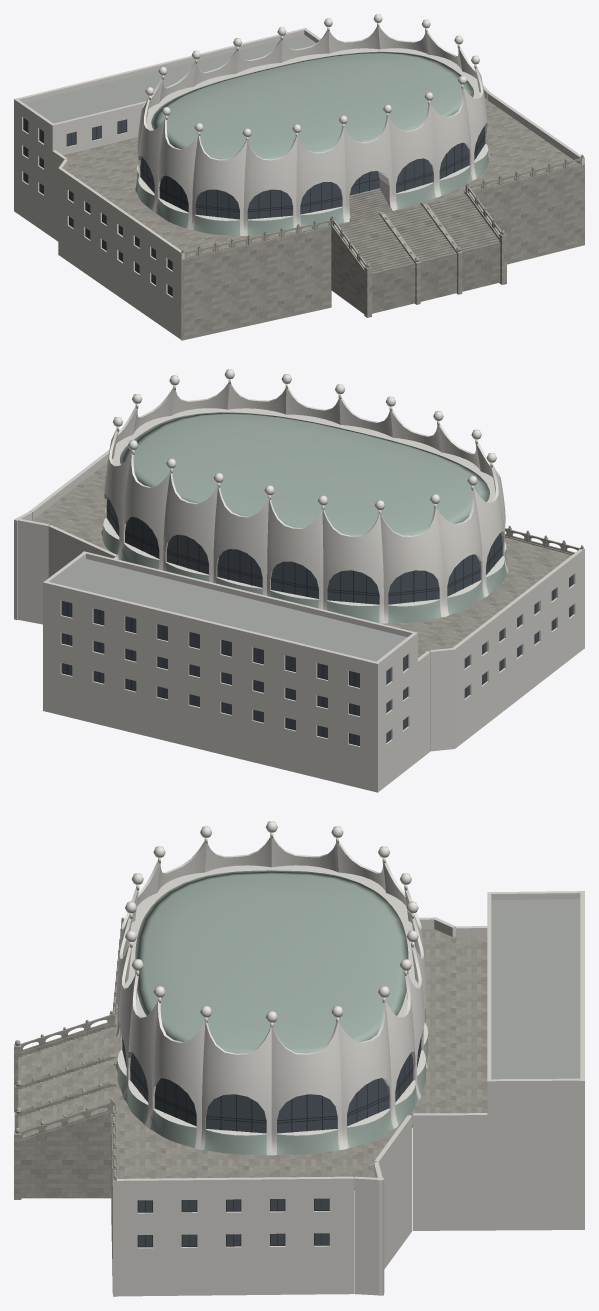
3 views of the same model, one above another, from view 1: azimuth 30°, elevation 25°; view 2: azimuth 150°, elevation 25°; view 3: azimuth 270°, elevation 25° (orthographic). The views are drawn at different scales.
Parts seen in each view (by area): view 1: music__stone, music__shell, music__plaster, music__step, music__dome, music__glass, music__roof, music__panel, music__frame; view 2: music__plaster, music__shell, music__dome, music__glass, music__roof, music__step, music__panel, music__frame, music__stone; view 3: music__plaster, music__dome, music__shell, music__step, music__roof, music__stone, music__glass, music__panel, music__frame.
Part boxes in pixels (x1,y1,x2,y2): music__stone: (181,154,584,340); music__shell: (135,14,489,235); music__plaster: (14,28,584,339); music__step: (63,98,578,313); music__dome: (151,52,473,159); music__glass: (23,118,485,295); music__roof: (24,34,315,123); music__panel: (136,139,489,235); music__frame: (23,118,485,296); music__plaster: (14,408,584,792); music__shell: (101,369,508,623); music__dome: (120,412,489,535); music__glass: (62,497,573,745); music__roof: (54,559,407,661); music__step: (32,462,571,657); music__panel: (102,513,507,623); music__frame: (61,501,573,745); music__stone: (504,525,583,554); music__plaster: (113,865,584,1296); music__dome: (135,870,408,1053); music__shell: (115,821,428,1155); music__step: (18,929,487,1189); music__roof: (491,899,580,1079); music__stone: (14,917,124,1296); music__glass: (122,1037,421,1246); music__panel: (116,1008,428,1154); music__frame: (122,1039,421,1247).
Bounding box in the file's own units: 60.16 × 25.8 × 55.1.
9 materials, 2 textured.
